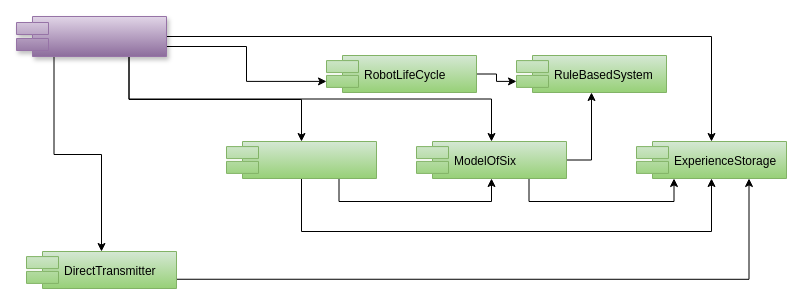
The diagram is 803 pixels wide and 305 high, and some of its shapes have lost their labels. The shapes that lost their labels are listed below. From the top down, each one's centre as x and y in pixels, then its label:
the point at 92,38: Robot
the point at 301,159: DriverInterface
